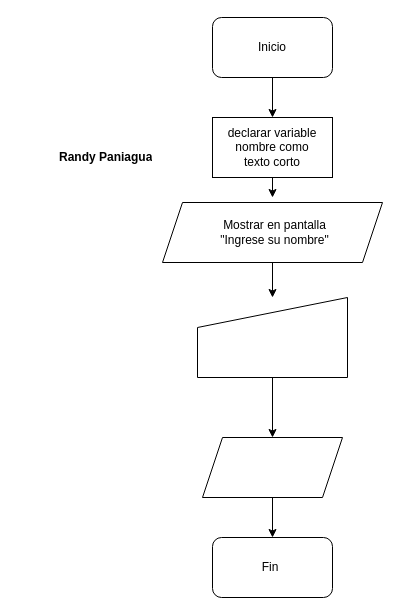
This 400x615 diagram has some shape labels left out. The centre of each missing label's shape, as x and y in pixels:
Entrada de valor para la variable nombre: pixel 272 337
Mostrar en pantalla "Bienvenido" + nombre: pixel 272 467
